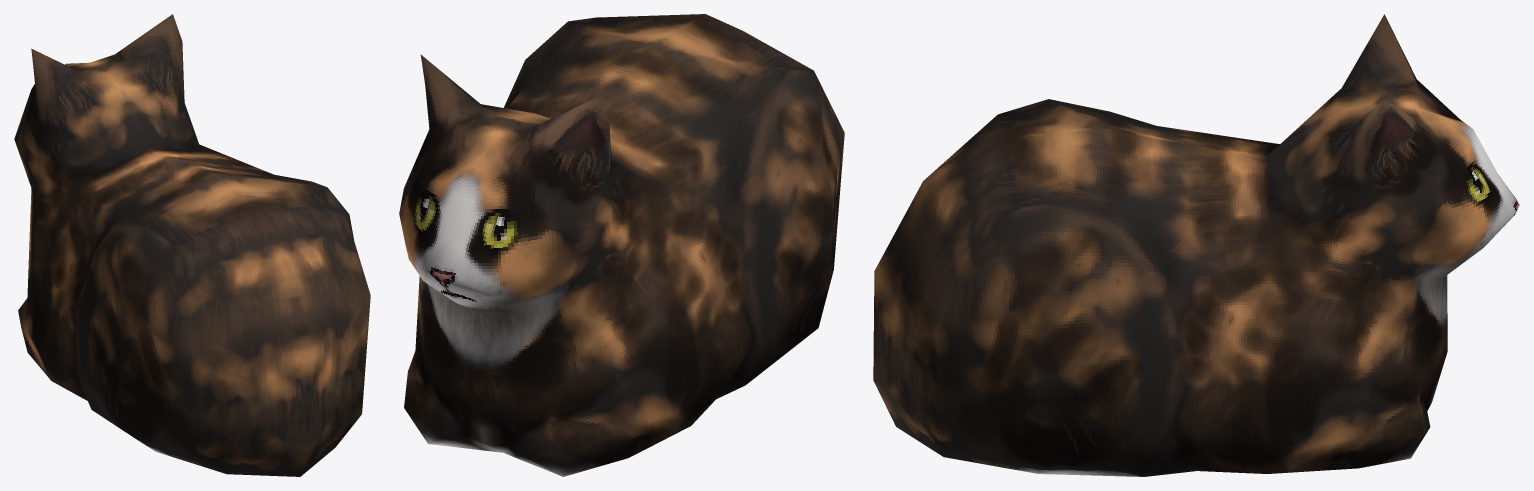
File: CatLoafTurtoise256.glb
3 views of the same model, side by side, from view 1: azimuth 30°, elevation 25°; view 2: azimuth 150°, elevation 25°; view 3: azimuth 270°, elevation 25° (orthographic). The views are drawn at different scales.
Visible parts, largest first — view 1: CatLoafTurtoise256; view 2: CatLoafTurtoise256; view 3: CatLoafTurtoise256.
Boxes of the visible parts, box(x1,y1,x2,y2) form: CatLoafTurtoise256: box(14, 14, 370, 476); CatLoafTurtoise256: box(399, 14, 844, 476); CatLoafTurtoise256: box(873, 14, 1519, 476).
Size of the model in its own units: 0.2077 by 0.2561 by 0.3957.
Materials: 1 (1 with a texture image).
